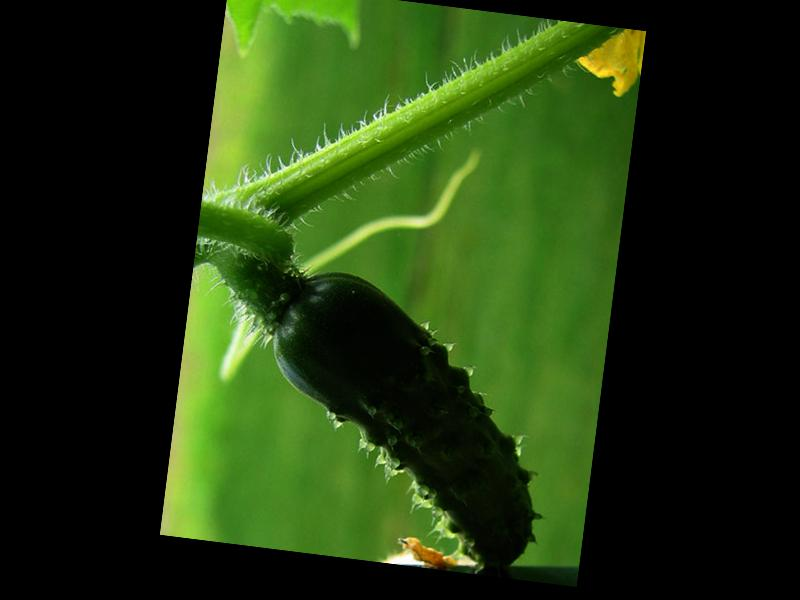Cucumber: (251, 261, 564, 571)
